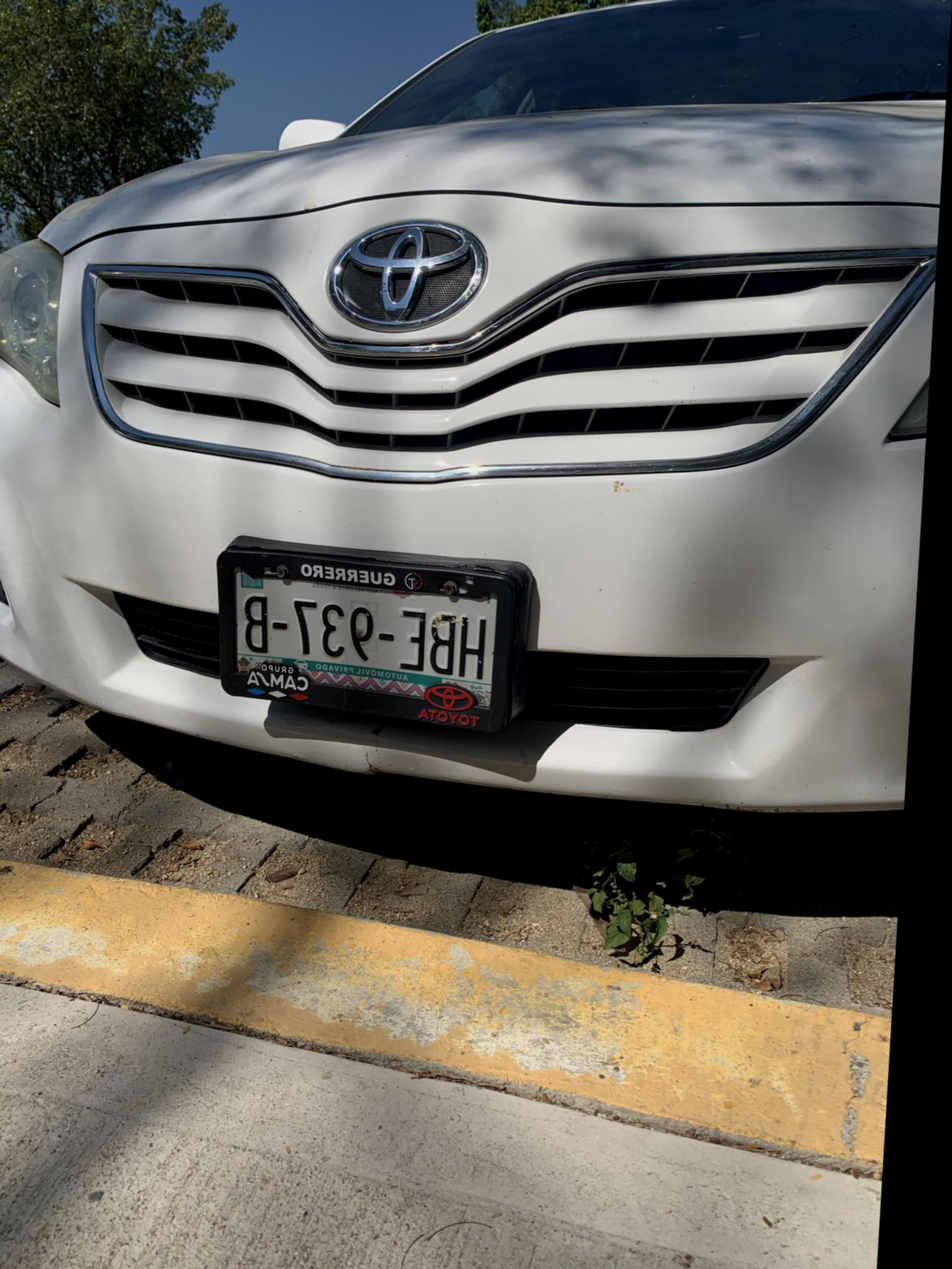License_Plate: (200, 551, 558, 724)
